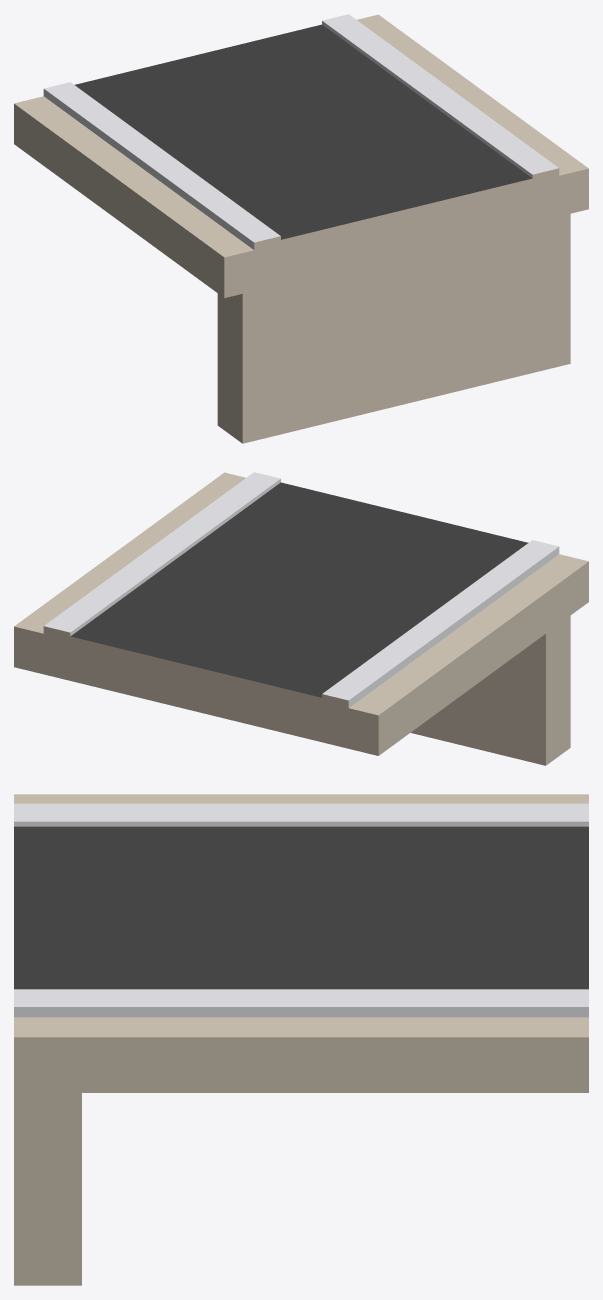
File: roadStraightBridgeStart.glb
The picture shows the model from 3 angles, top to bottom: view 1: azimuth 30°, elevation 25°; view 2: azimuth 150°, elevation 25°; view 3: azimuth 270°, elevation 25°; orthographic projection. The views are drawn at different scales.
Parts seen in each view (by area): view 1: roadStraightBridgeStart(Clone); view 2: roadStraightBridgeStart(Clone); view 3: roadStraightBridgeStart(Clone).
Part boxes in pixels (x1,y1,x2,y2): roadStraightBridgeStart(Clone): [14, 14, 588, 443]; roadStraightBridgeStart(Clone): [14, 472, 588, 765]; roadStraightBridgeStart(Clone): [14, 794, 588, 1285].
Size of the model in its own units: 1 by 0.52 by 1.
